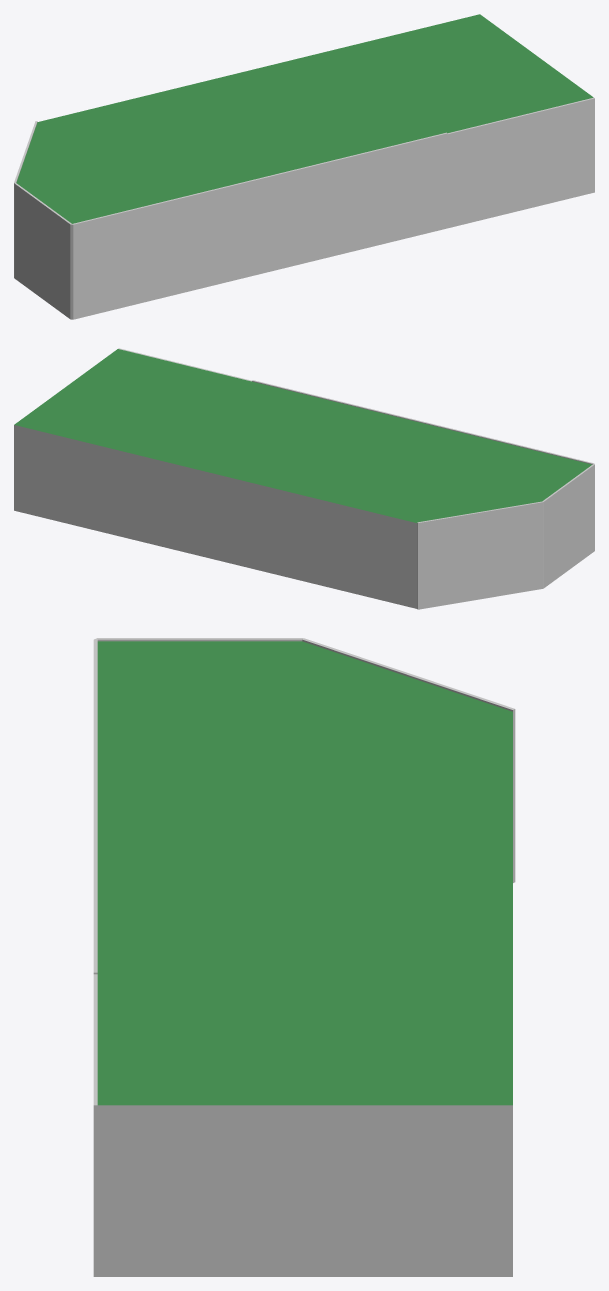
File: quais1.fbx
3 views of the same model, one above another, from view 1: azimuth 30°, elevation 25°; view 2: azimuth 150°, elevation 25°; view 3: azimuth 270°, elevation 25° (orthographic). The views are drawn at different scales.
Parts seen in each view (by area): view 1: Cube; view 2: Cube; view 3: Cube.
Part boxes in pixels (box(x1,y1,x2,y2)): Cube: box(14, 14, 594, 319); Cube: box(14, 348, 594, 609); Cube: box(93, 638, 515, 1276).
Size of the model in its own units: 2910 by 505 by 1113.
